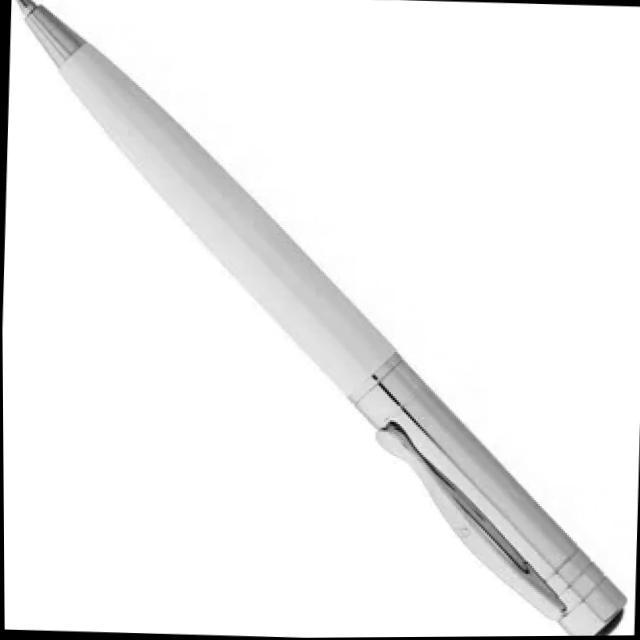pencil: (5, 0, 634, 634)
